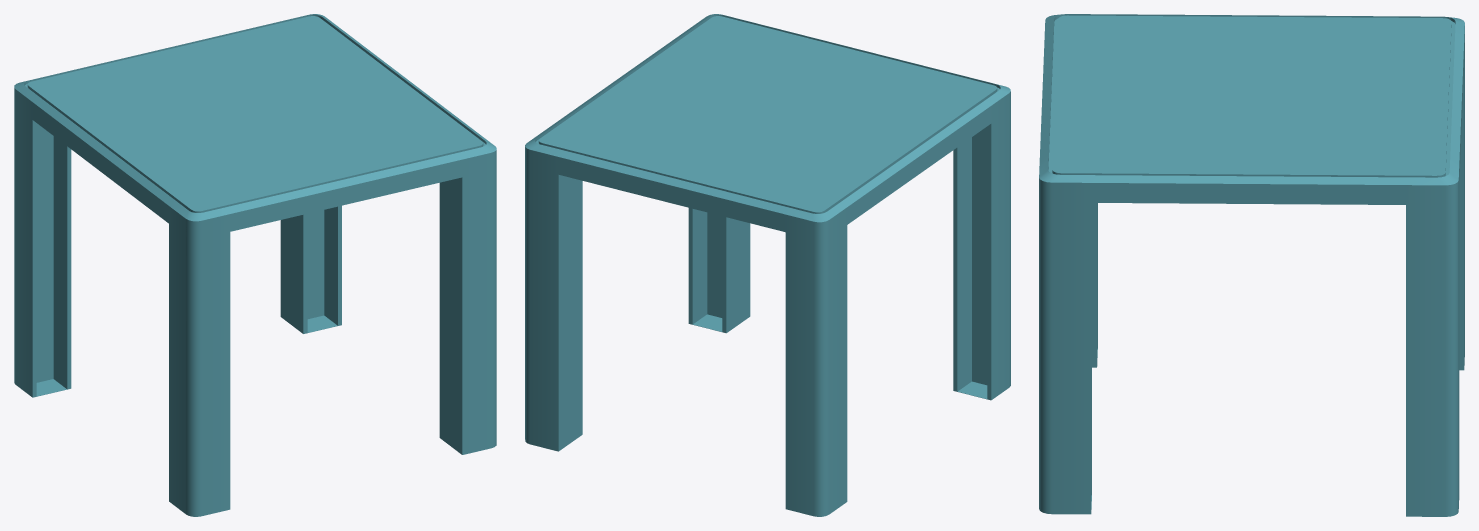
File: chair-lvl-1.fbx
The picture shows the model from 3 angles, left to right: view 1: azimuth 30°, elevation 25°; view 2: azimuth 150°, elevation 25°; view 3: azimuth 270°, elevation 25°; orthographic projection. The views are drawn at different scales.
Parts seen in each view (by area): view 1: Cube.018; view 2: Cube.018; view 3: Cube.018.
Boxes of the visible parts, <box> form: Cube.018: <box>14,14,496,516</box>; Cube.018: <box>525,14,1010,516</box>; Cube.018: <box>1039,14,1464,516</box>.
Bounding box in the file's own units: 144 × 133 × 152.
